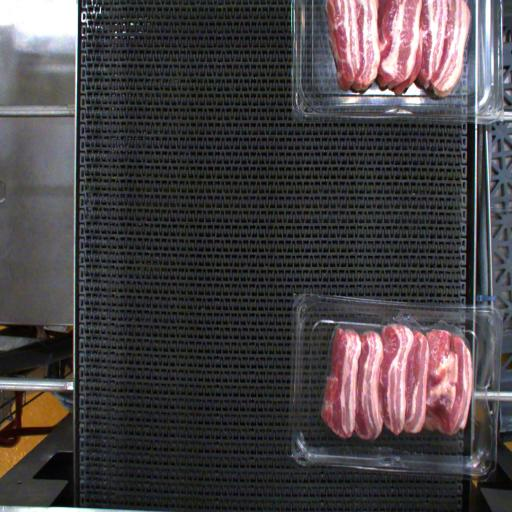unsealed: (327, 304, 488, 363)
